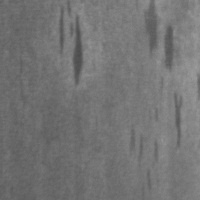inclusion: (128, 106, 161, 198), (54, 1, 87, 88), (160, 18, 183, 76), (141, 1, 161, 64), (168, 90, 187, 152)
